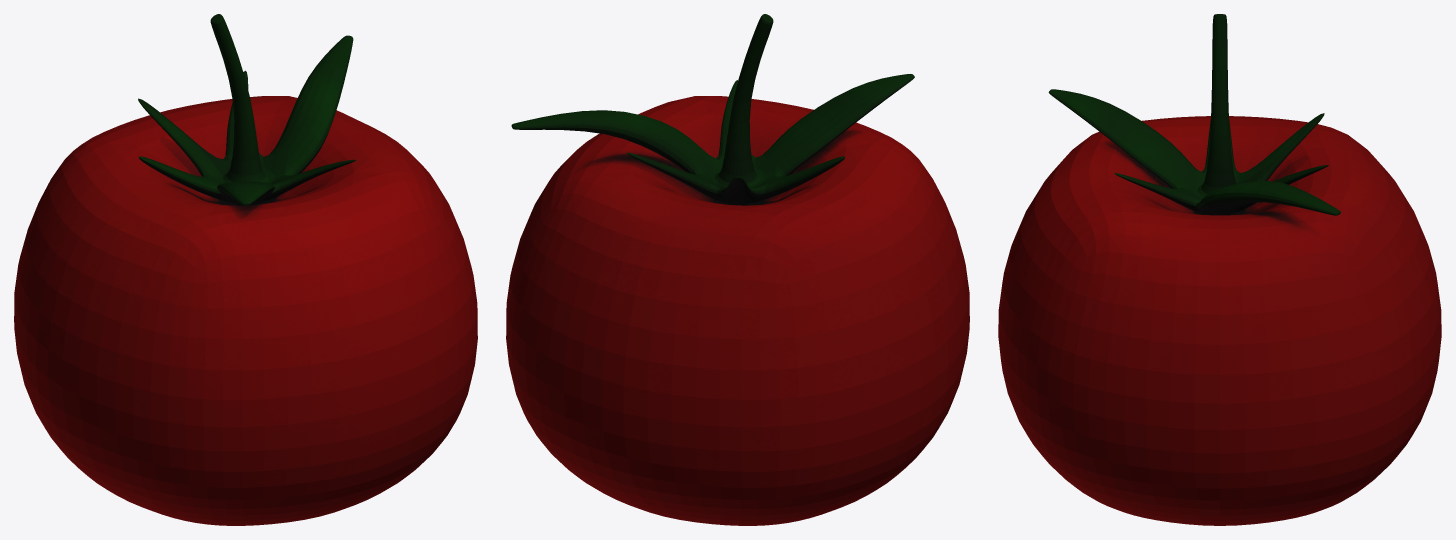
File: Tomato_obj.glb
The picture shows the model from 3 angles, left to right: view 1: azimuth 30°, elevation 25°; view 2: azimuth 150°, elevation 25°; view 3: azimuth 270°, elevation 25°; orthographic projection. The views are drawn at different scales.
Visible parts, largest first — view 1: Node1, Node2; view 2: Node1, Node2; view 3: Node1, Node2.
Part boxes in pixels (<box>): Node1: <box>14,96,477,525</box>; Node2: <box>138,14,355,205</box>; Node1: <box>506,96,969,525</box>; Node2: <box>511,14,914,205</box>; Node1: <box>998,116,1441,525</box>; Node2: <box>1048,14,1340,215</box>.
Bounding box in the file's own units: 3.44 × 3.93 × 3.44.
Materials: 2 (2 with a texture image).
